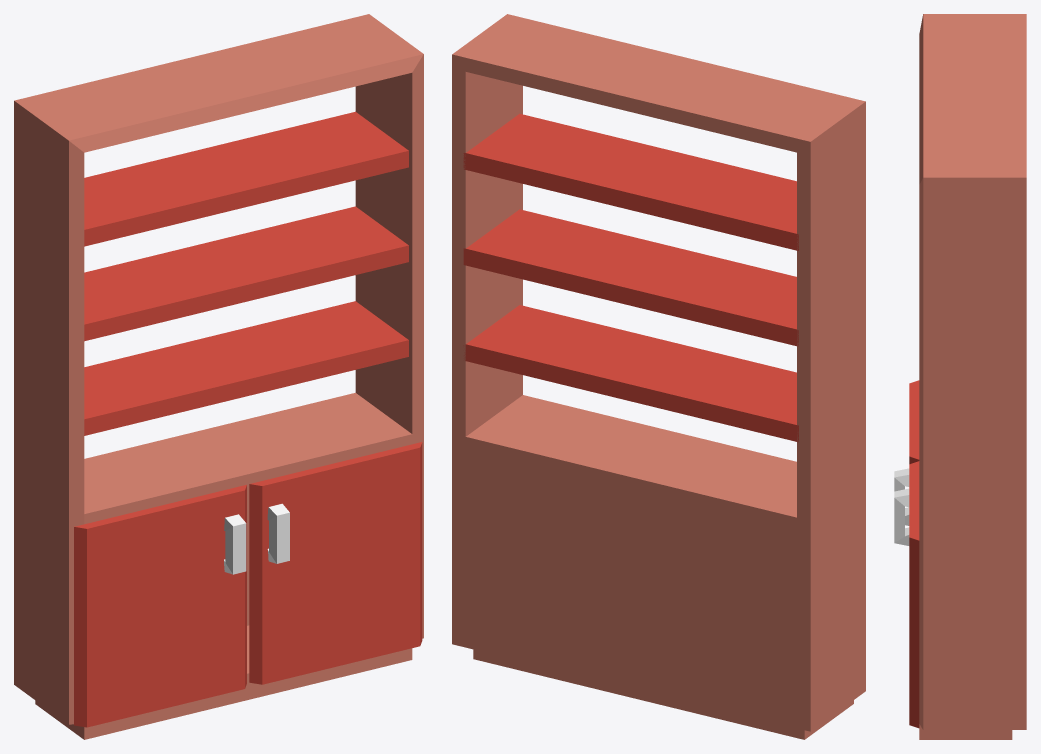
File: shelf1 break.fbx
3 renders of one model, left to right at view 1: azimuth 30°, elevation 25°; view 2: azimuth 150°, elevation 25°; view 3: azimuth 270°, elevation 25°, orthographic. The views are drawn at different scales.
Visible parts, largest first — view 1: polySurface10_FRAC1, polySurface7, polySurface6, polySurface12_FRAC5, polySurface12_FRAC1; view 2: polySurface10_FRAC1, polySurface7, polySurface12_FRAC5, polySurface12_FRAC1; view 3: polySurface10_FRAC1, polySurface7, polySurface6.
Part boxes in pixels (x1=…): polySurface10_FRAC1: x1=14, y1=14, x2=423, y2=642; polySurface7: x1=14, y1=273, x2=423, y2=739; polySurface6: x1=74, y1=484, x2=246, y2=727; polySurface12_FRAC5: x1=148, y1=111, x2=408, y2=221; polySurface12_FRAC1: x1=200, y1=206, x2=408, y2=300; polySurface10_FRAC1: x1=452, y1=14, x2=865, y2=658; polySurface7: x1=452, y1=276, x2=865, y2=739; polySurface12_FRAC5: x1=463, y1=113, x2=746, y2=219; polySurface12_FRAC1: x1=463, y1=209, x2=690, y2=301; polySurface10_FRAC1: x1=919, y1=14, x2=1026, y2=412; polySurface7: x1=894, y1=399, x2=1026, y2=739; polySurface6: x1=894, y1=380, x2=919, y2=525.
Bounding box in the file's own units: 139 × 225 × 47.43.
Materials: 1 (1 with a texture image).
